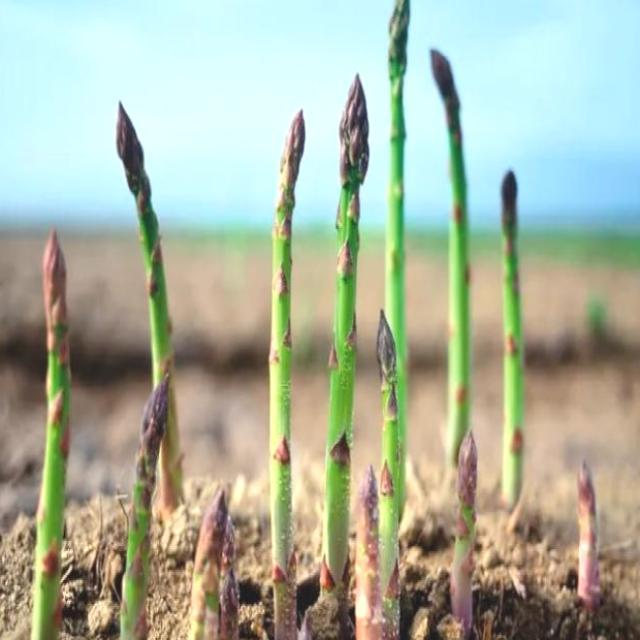aspargus: (319, 80, 366, 638), (266, 111, 303, 640), (28, 230, 70, 640), (500, 172, 526, 501), (447, 433, 483, 640), (577, 463, 606, 621)
